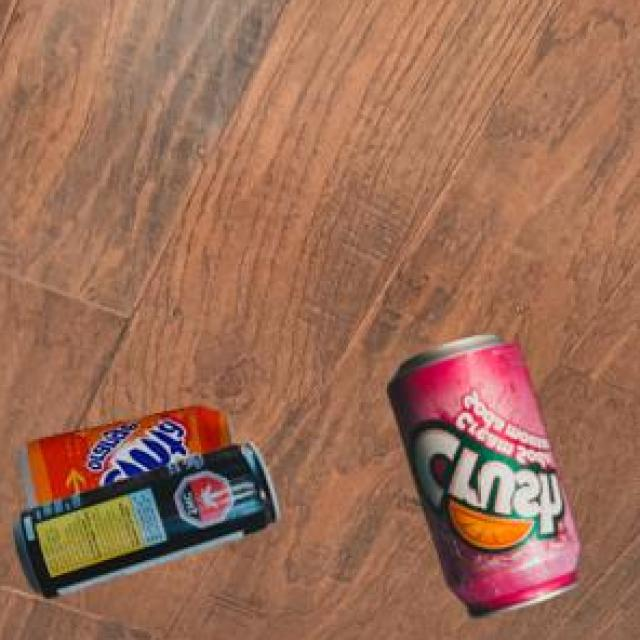logam: (384, 338, 578, 622), (12, 446, 276, 602), (16, 410, 231, 510)
